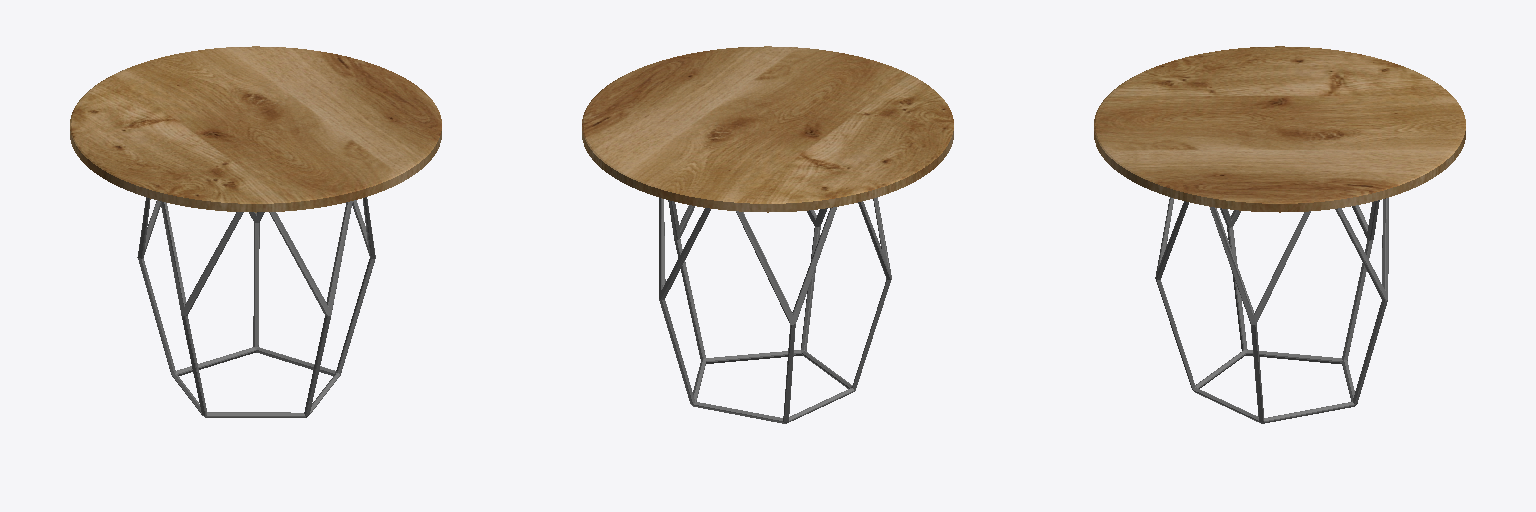
3 views of the same model, side by side, from view 1: azimuth 30°, elevation 25°; view 2: azimuth 150°, elevation 25°; view 3: azimuth 270°, elevation 25° (orthographic).
Visible parts, largest first — view 1: Mesh1 G_3DGeom_1 Group2 Cylinder08 Group1 Model, Mesh2 G_3DGeom_2 Group3 NGon01 Group1 Model; view 2: Mesh1 G_3DGeom_1 Group2 Cylinder08 Group1 Model, Mesh2 G_3DGeom_2 Group3 NGon01 Group1 Model; view 3: Mesh1 G_3DGeom_1 Group2 Cylinder08 Group1 Model, Mesh2 G_3DGeom_2 Group3 NGon01 Group1 Model.
Boxes of the visible parts, x1=… form: Mesh1 G_3DGeom_1 Group2 Cylinder08 Group1 Model: x1=70, y1=46, x2=441, y2=212; Mesh2 G_3DGeom_2 Group3 NGon01 Group1 Model: x1=137, y1=197, x2=375, y2=417; Mesh1 G_3DGeom_1 Group2 Cylinder08 Group1 Model: x1=582, y1=46, x2=953, y2=212; Mesh2 G_3DGeom_2 Group3 NGon01 Group1 Model: x1=659, y1=197, x2=891, y2=423; Mesh1 G_3DGeom_1 Group2 Cylinder08 Group1 Model: x1=1094, y1=46, x2=1465, y2=212; Mesh2 G_3DGeom_2 Group3 NGon01 Group1 Model: x1=1155, y1=197, x2=1388, y2=423.
Bounding box in the file's own units: 823 × 648 × 823.
2 materials, 1 textured.